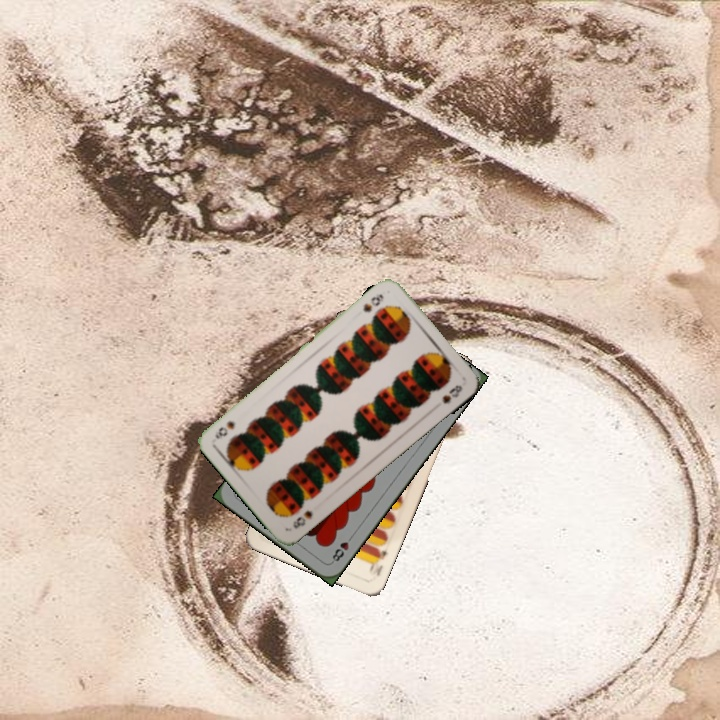E10: (365, 544, 390, 579)
H8: (327, 530, 356, 566)
S8: (359, 289, 386, 315), (289, 506, 315, 531)
